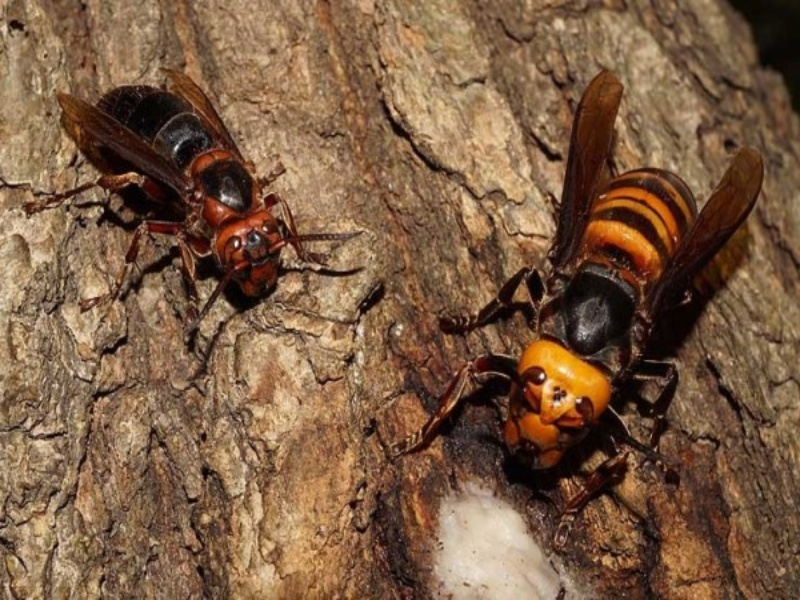asian_giant_hornet: (473, 162, 708, 482)
